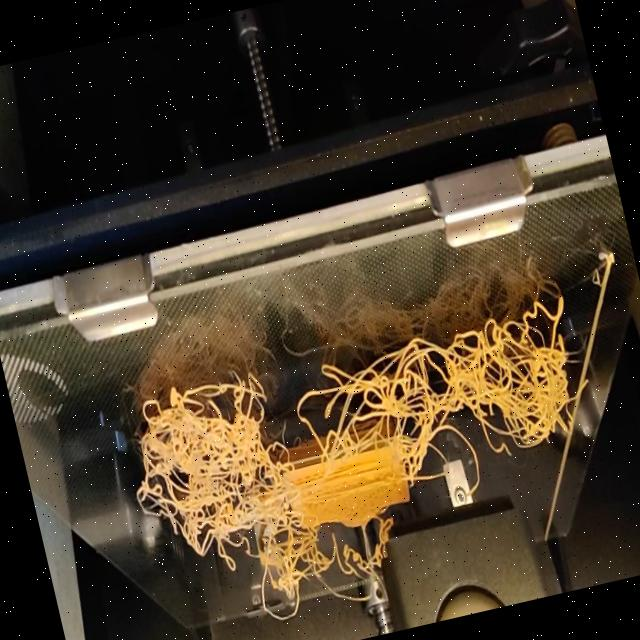spaghetti: (111, 288, 612, 580), (220, 521, 393, 640)
